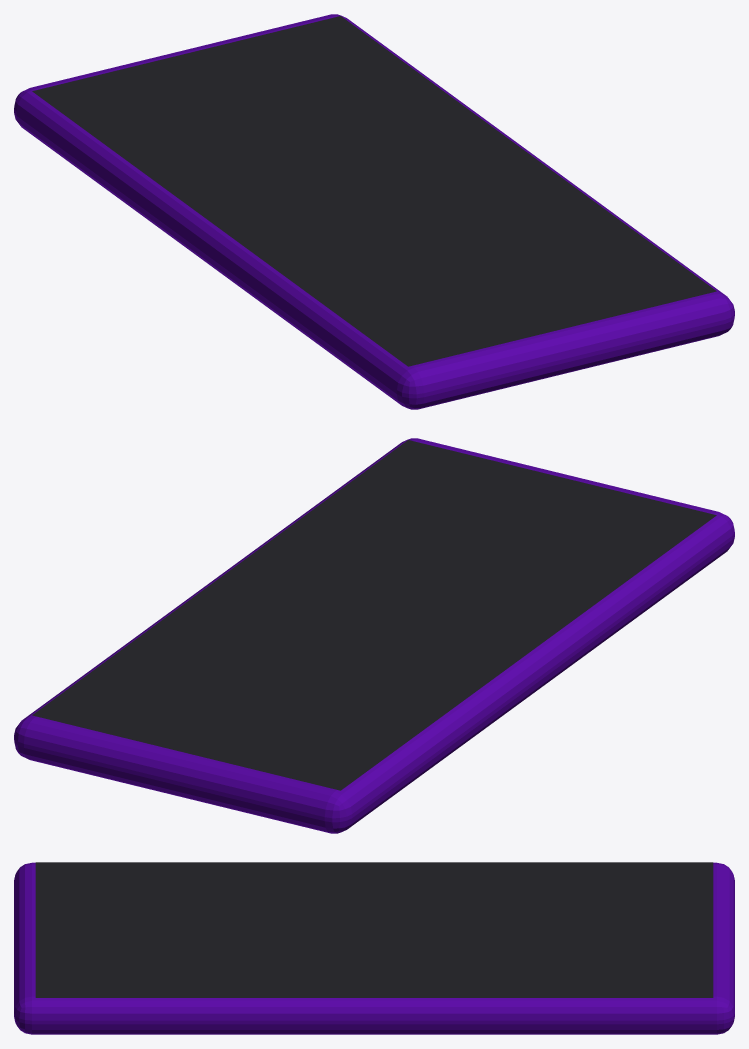
File: Phone_902.glb
The picture shows the model from 3 angles, top to bottom: view 1: azimuth 30°, elevation 25°; view 2: azimuth 150°, elevation 25°; view 3: azimuth 270°, elevation 25°; orthographic projection. The views are drawn at different scales.
Visible parts, largest first — view 1: Phone_Screen, Phone_Body; view 2: Phone_Screen, Phone_Body; view 3: Phone_Screen, Phone_Body.
Boxes of the visible parts, bbox=[...] form: Phone_Screen: bbox=[32, 16, 716, 366]; Phone_Body: bbox=[14, 14, 734, 409]; Phone_Screen: bbox=[32, 440, 716, 790]; Phone_Body: bbox=[14, 438, 734, 833]; Phone_Screen: bbox=[35, 862, 713, 997]; Phone_Body: bbox=[14, 862, 734, 1034].
Size of the model in its own units: 0.0774 by 0.009 by 0.1599.
